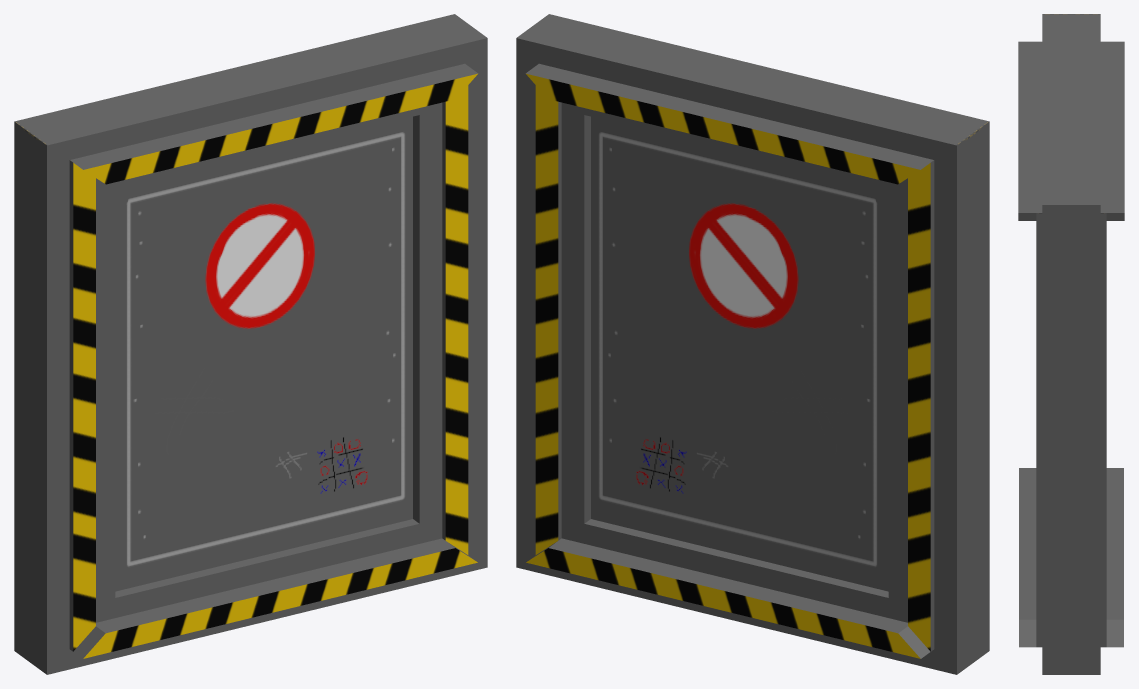
File: MetalicDoor.fbx
3 renders of one model, left to right at view 1: azimuth 30°, elevation 25°; view 2: azimuth 150°, elevation 25°; view 3: azimuth 270°, elevation 25°, orthographic. The views are drawn at different scales.
Parts seen in each view (by area): view 1: Cube; view 2: Cube; view 3: Cube.
Boxes of the visible parts, box(x1,y1,x2,y2) form: Cube: box(14, 14, 487, 674); Cube: box(516, 14, 989, 674); Cube: box(1018, 14, 1124, 674).
Bounding box in the file's own units: 238 × 274 × 56.02.
